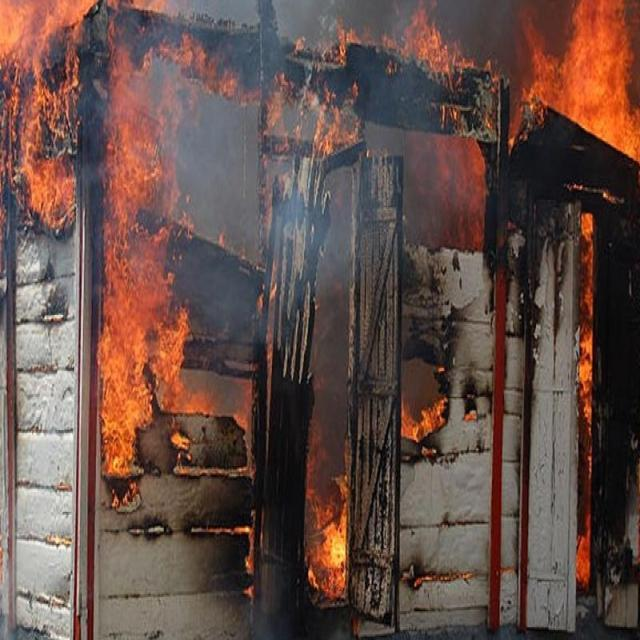Fire: (100, 249, 177, 457), (552, 4, 640, 164), (576, 218, 604, 610), (308, 489, 352, 606)
